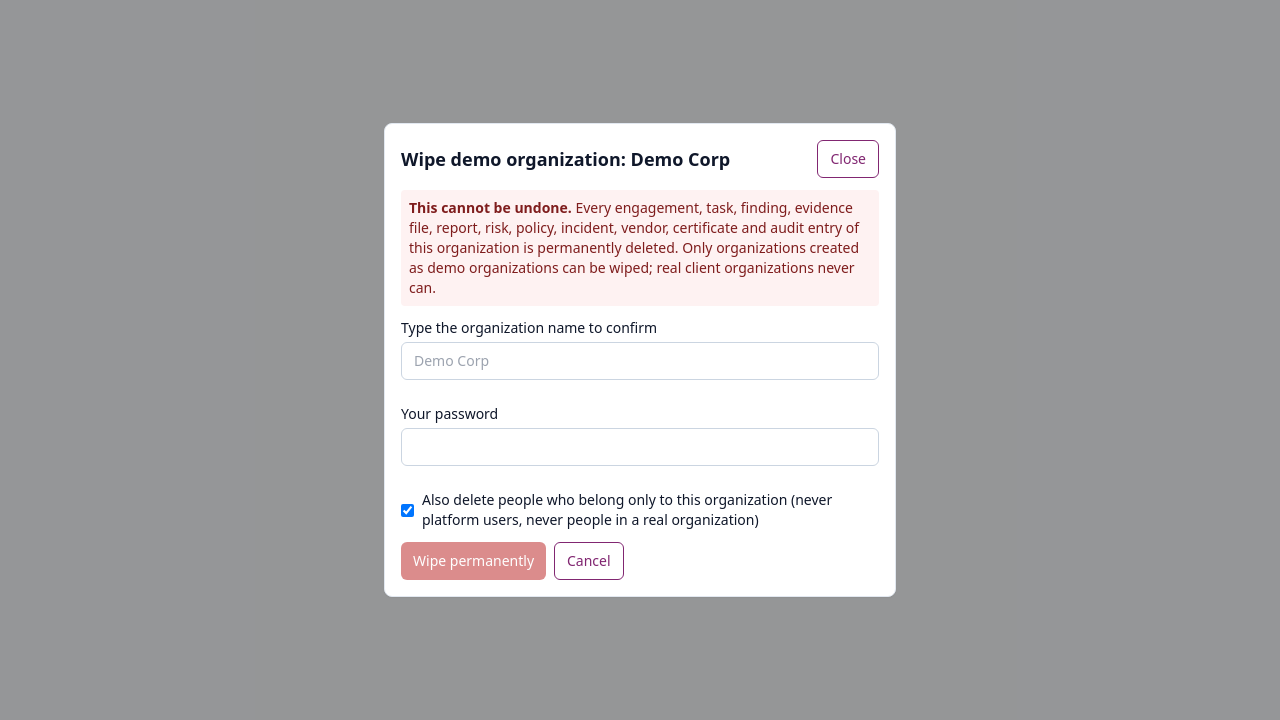
Scenario: the wipe button stays off until the name and password are given, and reports the result
The width and height of the screenshot is (1280, 720).
Expected: the button "Wipe permanently" is disabled, x1=401 y1=542 x2=546 y2=580
Type "demo corp" into the field labelled "Type the organization name to confirm". click: point(640, 361)
box: x1=401 y1=342 x2=879 y2=380
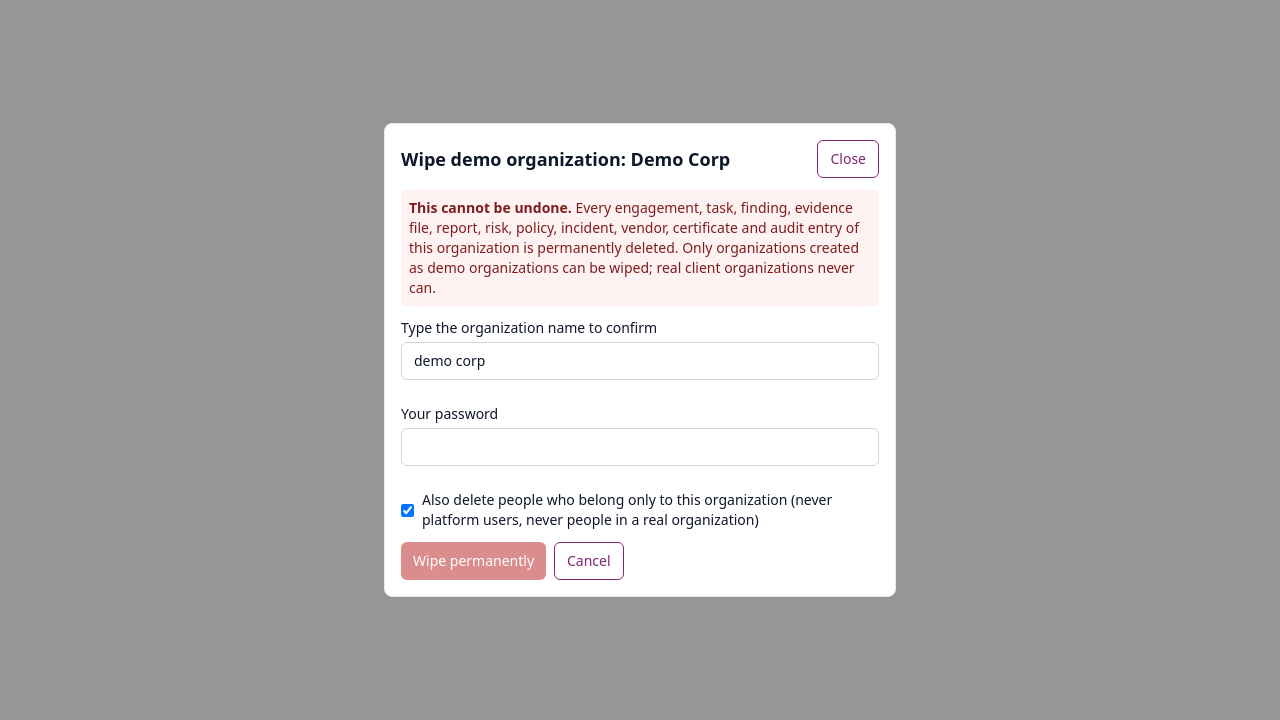
Type "pw" into the password field labelled "Your password". click: point(640, 447)
box: x1=401 y1=428 x2=879 y2=466
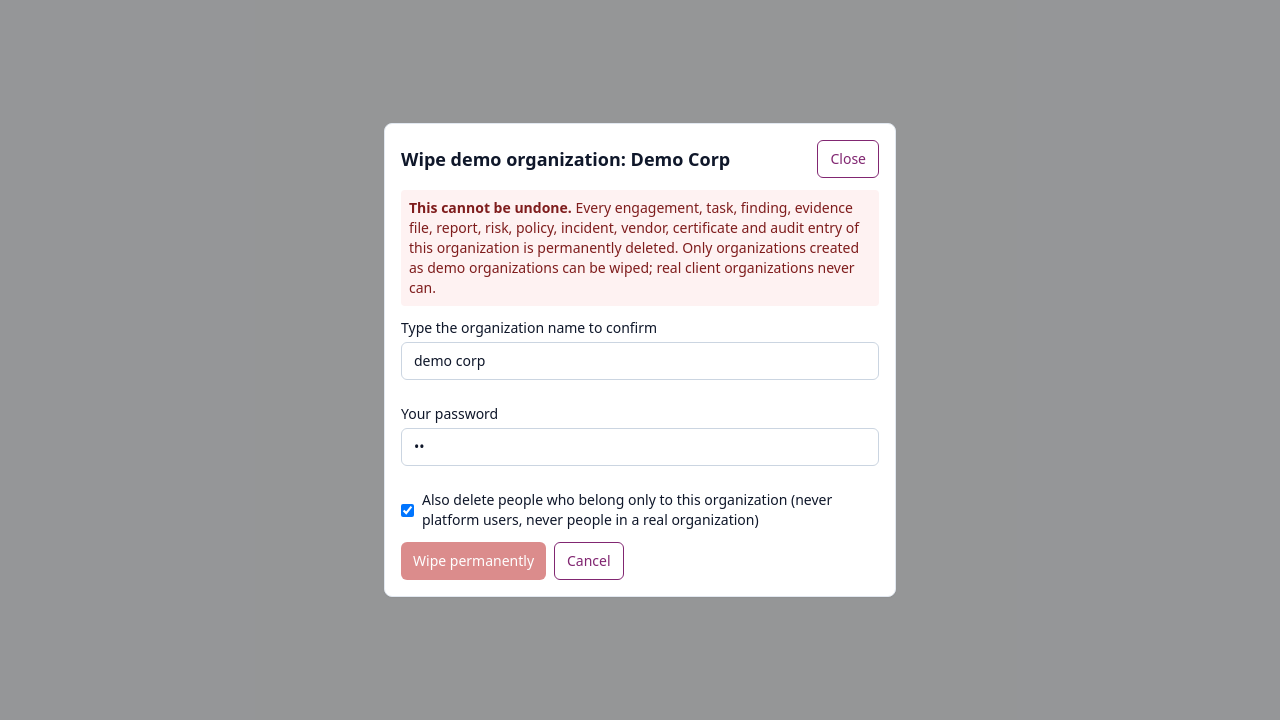
Expected: the button "Wipe permanently" is disabled, x1=401 y1=542 x2=546 y2=580
Replace the text in the field labelled "Type the organization name to confirm" with "Demo Corp". click: point(640, 361)
box: x1=401 y1=342 x2=879 y2=380
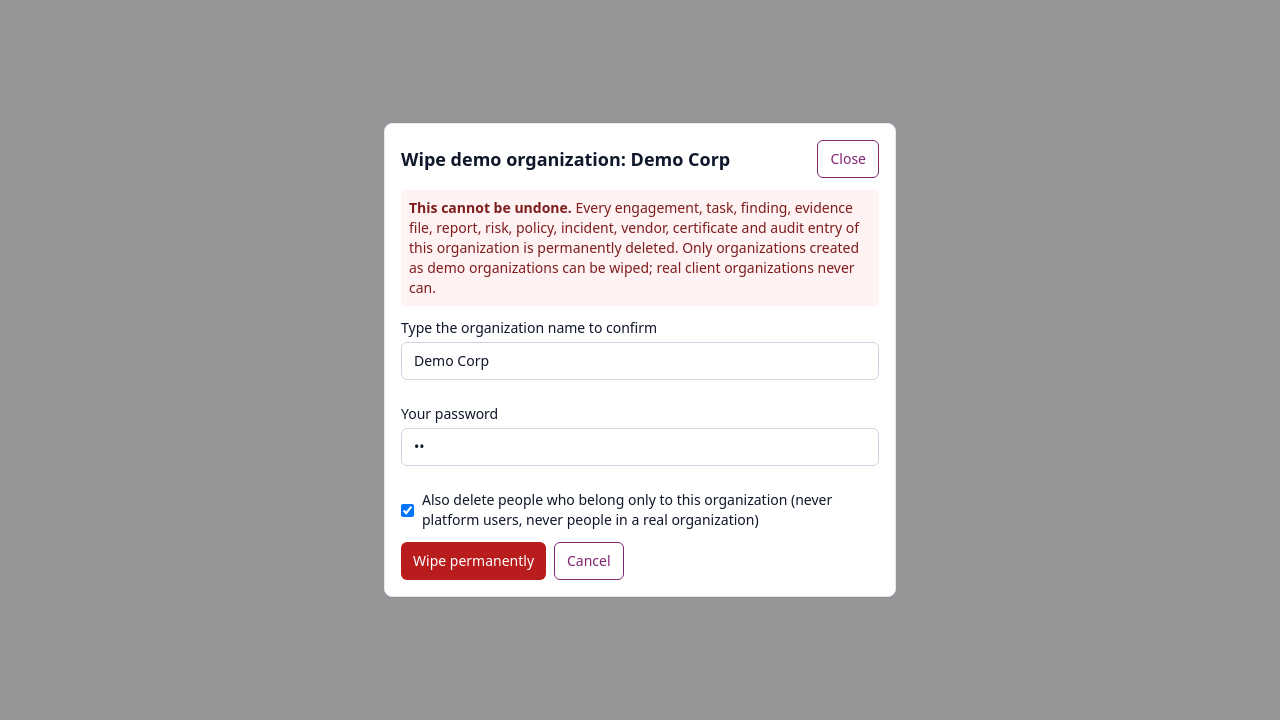
Now the button "Wipe permanently" is enabled
Click the button "Wipe permanently". click: point(474, 561)
box: x1=401 y1=542 x2=546 y2=580
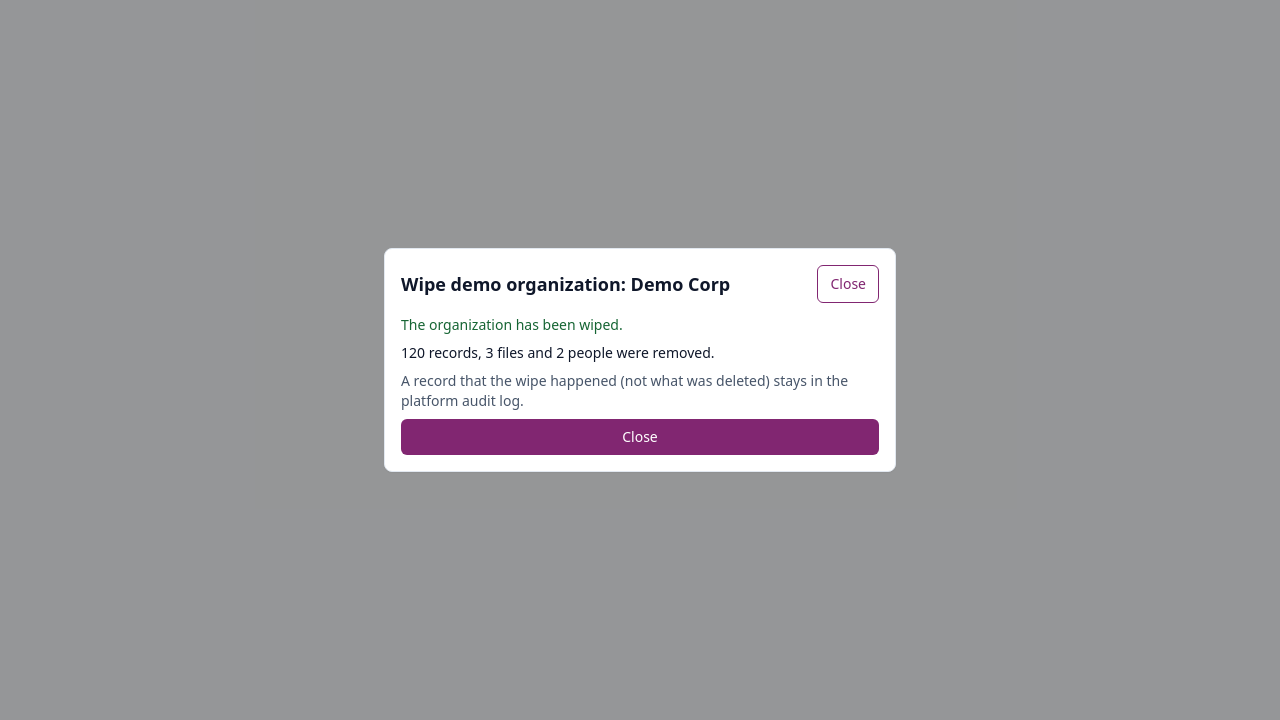
Now the text "120 records, 3 files and 2 people were removed." is shown, box x1=401 y1=343 x2=715 y2=362
